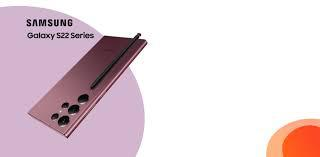Smartphone: (53, 28, 148, 141)
